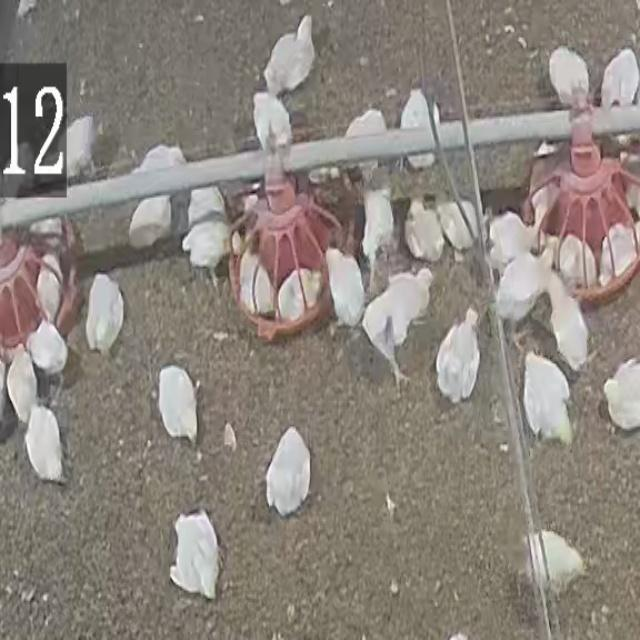chicken: (362, 268, 434, 382), (169, 508, 222, 601), (258, 16, 318, 97), (522, 351, 573, 446), (491, 252, 549, 330), (264, 428, 310, 518), (436, 312, 481, 403), (549, 281, 589, 379), (529, 529, 587, 594), (157, 364, 199, 447), (84, 272, 125, 356), (400, 89, 438, 171), (326, 246, 364, 327), (604, 361, 640, 435), (251, 91, 291, 157), (185, 229, 239, 277), (402, 198, 443, 261), (548, 46, 590, 106), (601, 221, 636, 292), (277, 266, 319, 325), (600, 49, 639, 110), (127, 199, 174, 247), (239, 250, 273, 316), (363, 192, 395, 259), (561, 237, 596, 294), (438, 207, 479, 254), (66, 116, 96, 178), (488, 216, 535, 255), (527, 145, 550, 223)
